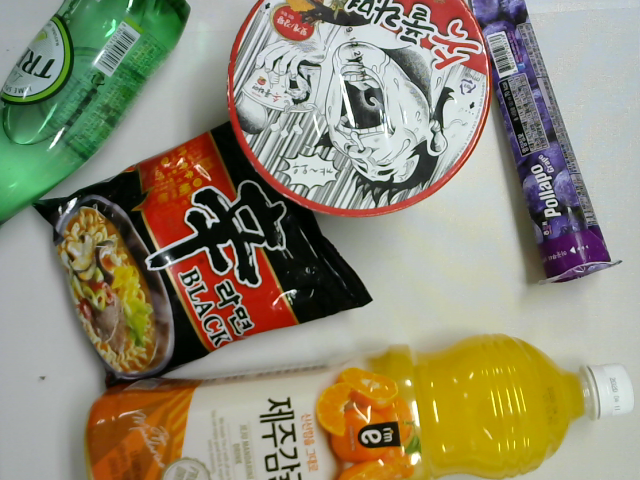Hejangpul: (218, 1, 502, 226)
Jeju_Tangerine_1.5L: (73, 328, 639, 480)
Polapo_Grape: (467, 1, 628, 296)
Sinramen_Black: (31, 106, 375, 392)
Treviraim_500ml: (1, 5, 206, 245)
